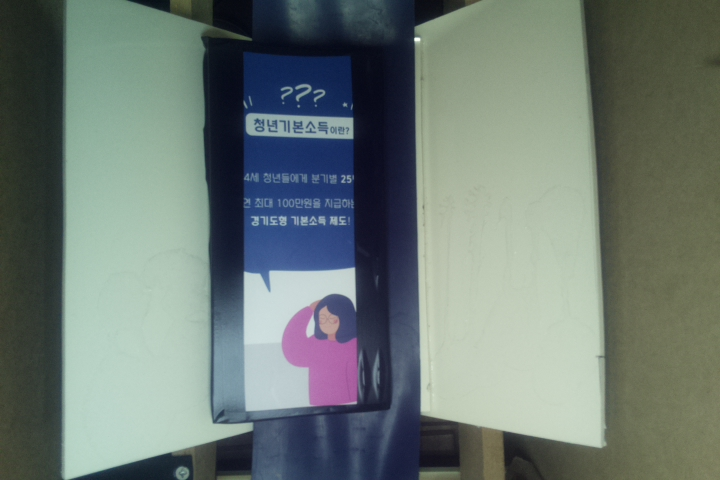book: (203, 38, 392, 424)
